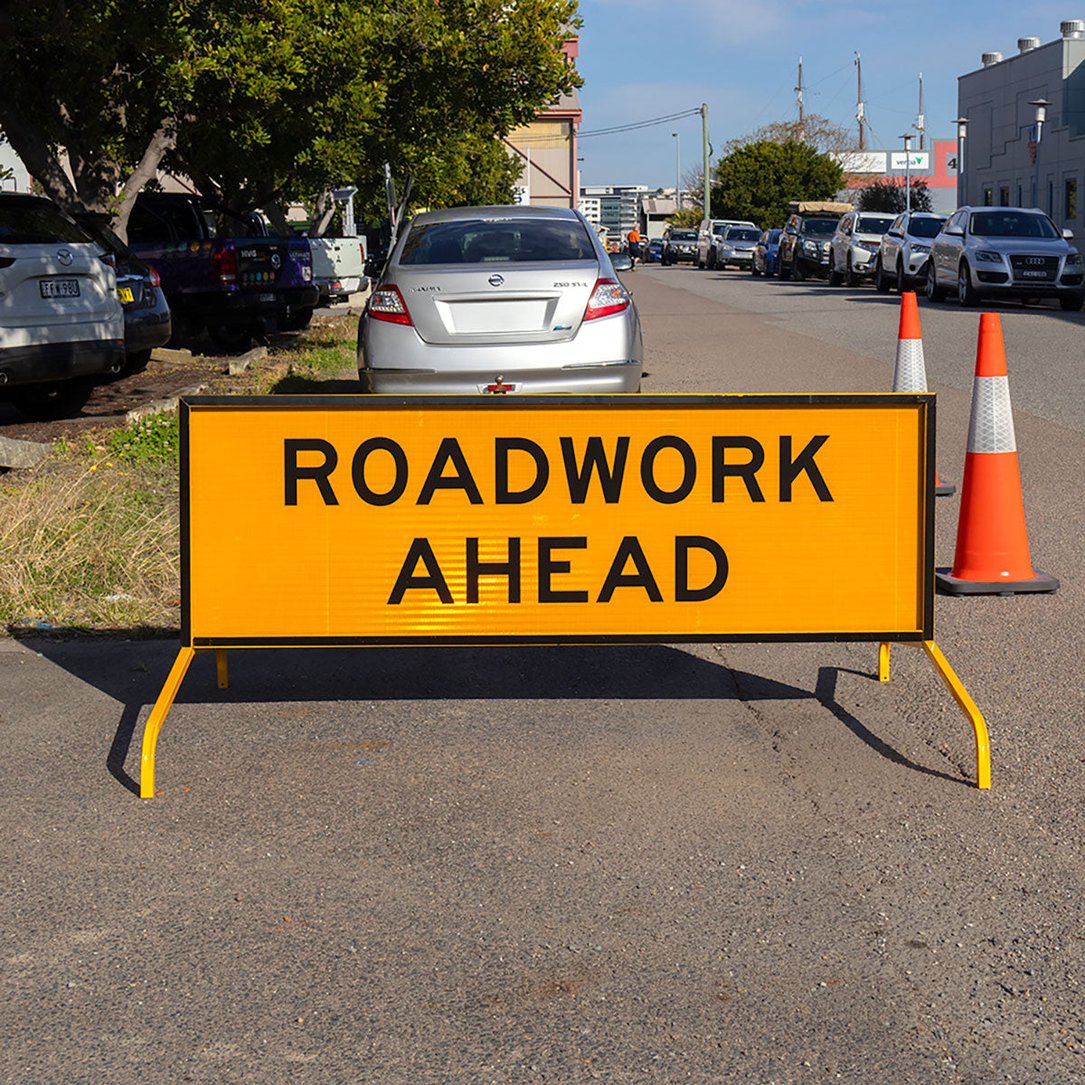Car: (354, 201, 650, 392), (1, 183, 136, 396), (928, 204, 1081, 303), (874, 211, 951, 293)
Road_cone: (958, 313, 1062, 595)
Road_workahead: (181, 392, 953, 657)
Tree: (1, 1, 207, 258)
